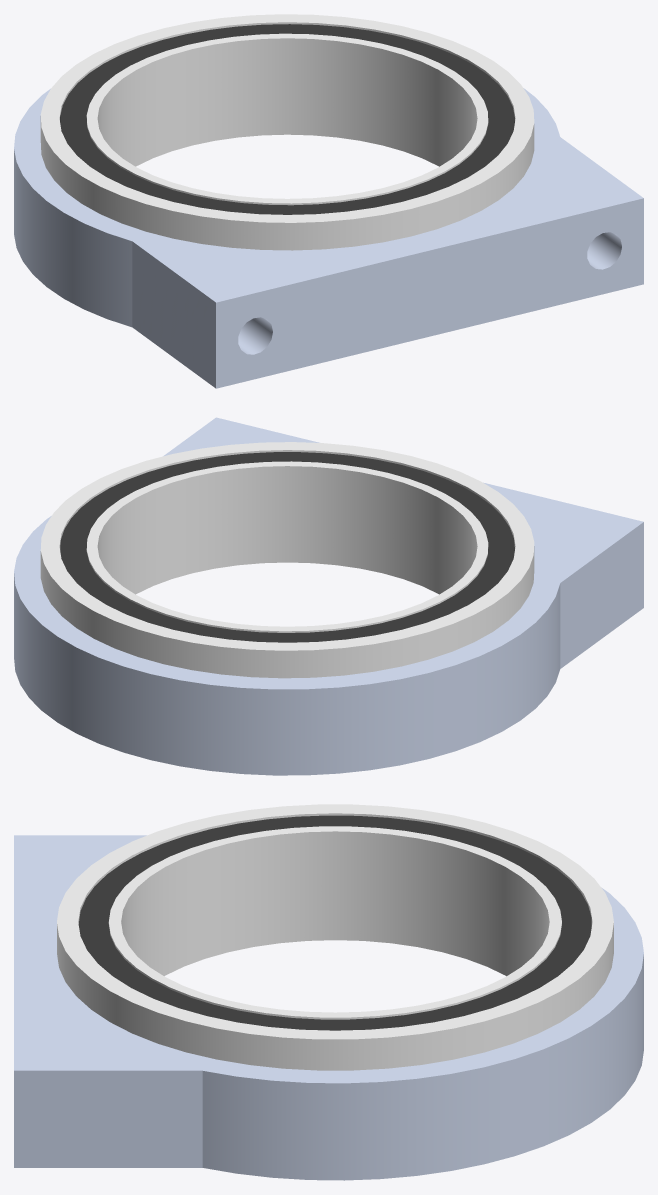
The model's file is ROB-12267.obj.
3 renders of one model, top to bottom at view 1: azimuth 30°, elevation 25°; view 2: azimuth 150°, elevation 25°; view 3: azimuth 270°, elevation 25°, orthographic. The views are drawn at different scales.
Parts seen in each view (by area): view 1: mesh 3 Boss-Extrude4, mesh 2 Boss-Extrude3, mesh 1 RO; view 2: mesh 3 Boss-Extrude4, mesh 2 Boss-Extrude3, mesh 1 RO; view 3: mesh 3 Boss-Extrude4, mesh 2 Boss-Extrude3, mesh 1 RO.
Part boxes in pixels (bbox=[...]): mesh 3 Boss-Extrude4: bbox=[14, 88, 643, 388]; mesh 2 Boss-Extrude3: bbox=[40, 14, 534, 250]; mesh 1 RO: bbox=[60, 24, 514, 214]; mesh 3 Boss-Extrude4: bbox=[14, 417, 643, 775]; mesh 2 Boss-Extrude3: bbox=[40, 442, 534, 678]; mesh 1 RO: bbox=[60, 452, 514, 642]; mesh 3 Boss-Extrude4: bbox=[14, 835, 643, 1180]; mesh 2 Boss-Extrude3: bbox=[57, 804, 613, 1070]; mesh 1 RO: bbox=[78, 815, 591, 1030].
Bounding box in the file's own units: 0.0366 × 0.00838 × 0.0373.
